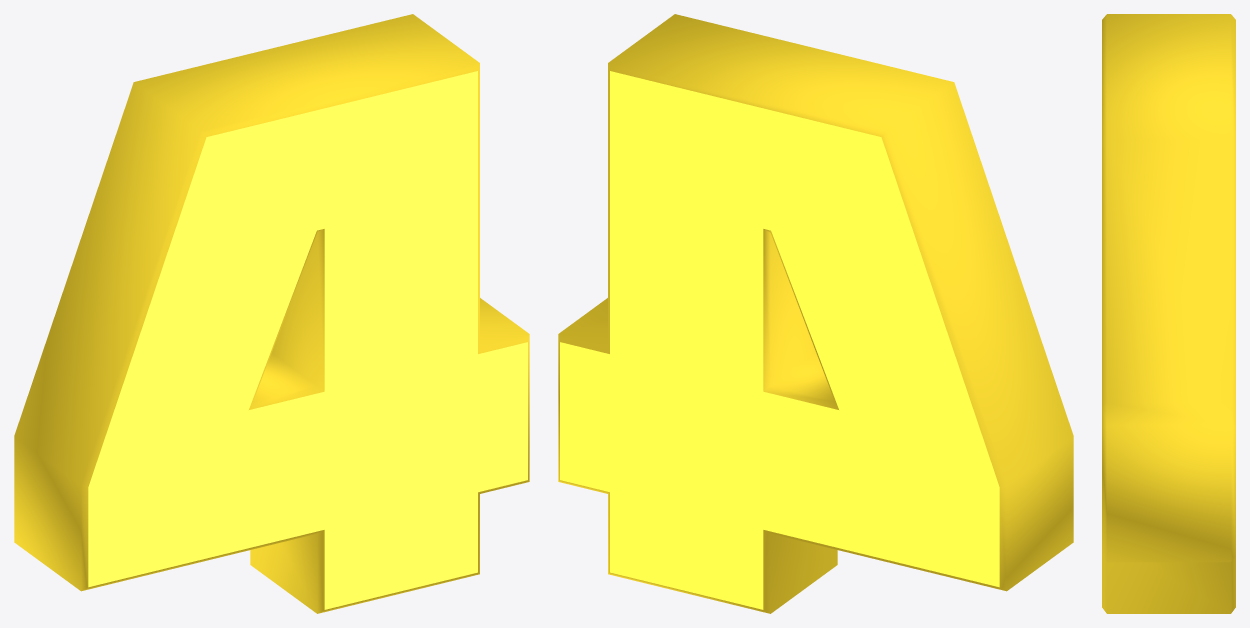
3 renders of one model, left to right at view 1: azimuth 30°, elevation 25°; view 2: azimuth 150°, elevation 25°; view 3: azimuth 270°, elevation 25°, orthographic. The views are drawn at different scales.
Visible parts, largest first — view 1: glyph; view 2: glyph; view 3: glyph.
Boxes of the visible parts, <box> form: glyph: <box>14,14,529,613</box>; glyph: <box>558,14,1073,613</box>; glyph: <box>1102,14,1235,613</box>.
Size of the model in its own units: 0.058 by 0.0632 by 0.0162.
